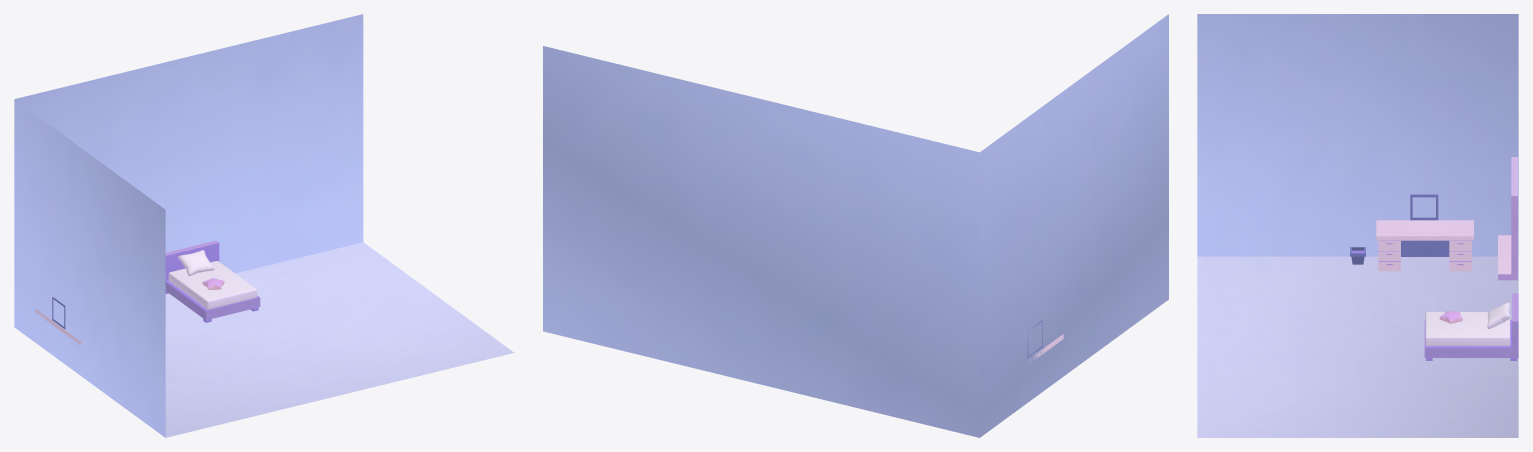
The model's file is Room.glb.
3 views of the same model, side by side, from view 1: azimuth 30°, elevation 25°; view 2: azimuth 150°, elevation 25°; view 3: azimuth 270°, elevation 25° (orthographic). The views are drawn at different scales.
Parts seen in each view (by area): view 1: Walls, Bed, Pillow; view 2: Walls; view 3: Walls, Table, Bed, News, Pillow, TableProps.
Part boxes in pixels (x1,y1,x2,y2): Walls: (14,14,514,437); Bed: (165,240,260,322); Pillow: (177,250,214,276); Walls: (543,14,1168,437); Walls: (1197,14,1518,437); Table: (1376,220,1473,271); Bed: (1424,293,1518,360); News: (1498,157,1517,280); Pillow: (1487,302,1511,329); TableProps: (1410,194,1438,220).
Bounding box in the file's own units: 32 × 20 × 24.
1 material, 1 textured.
